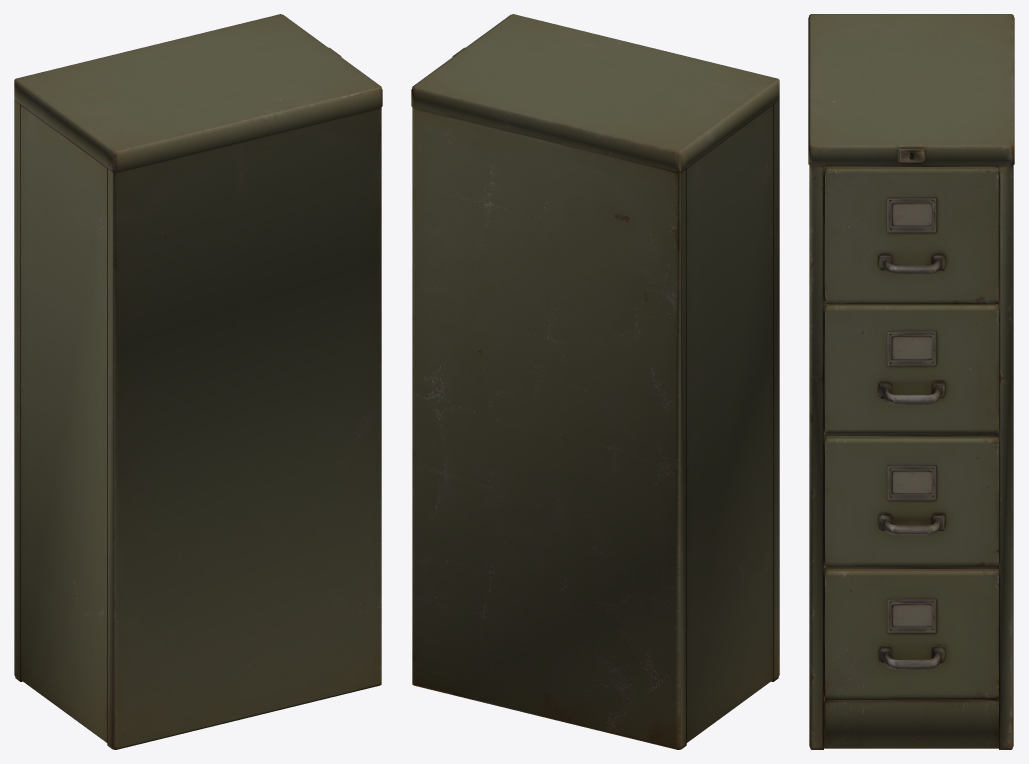
File: furniture-medical-file-cabinet.glb
3 renders of one model, left to right at view 1: azimuth 30°, elevation 25°; view 2: azimuth 150°, elevation 25°; view 3: azimuth 270°, elevation 25°, orthographic.
Parts seen in each view (by area): view 1: tripo_node_a568f79c-ac58-46c6-b6af-c600f33fbb7d; view 2: tripo_node_a568f79c-ac58-46c6-b6af-c600f33fbb7d; view 3: tripo_node_a568f79c-ac58-46c6-b6af-c600f33fbb7d.
Part boxes in pixels (x1,y1,x2,y2): tripo_node_a568f79c-ac58-46c6-b6af-c600f33fbb7d: (14, 14, 382, 749); tripo_node_a568f79c-ac58-46c6-b6af-c600f33fbb7d: (411, 14, 779, 749); tripo_node_a568f79c-ac58-46c6-b6af-c600f33fbb7d: (808, 14, 1014, 749).
Bounding box in the file's own units: 1.1 × 2.1 × 0.65.
1 material, 1 textured.
